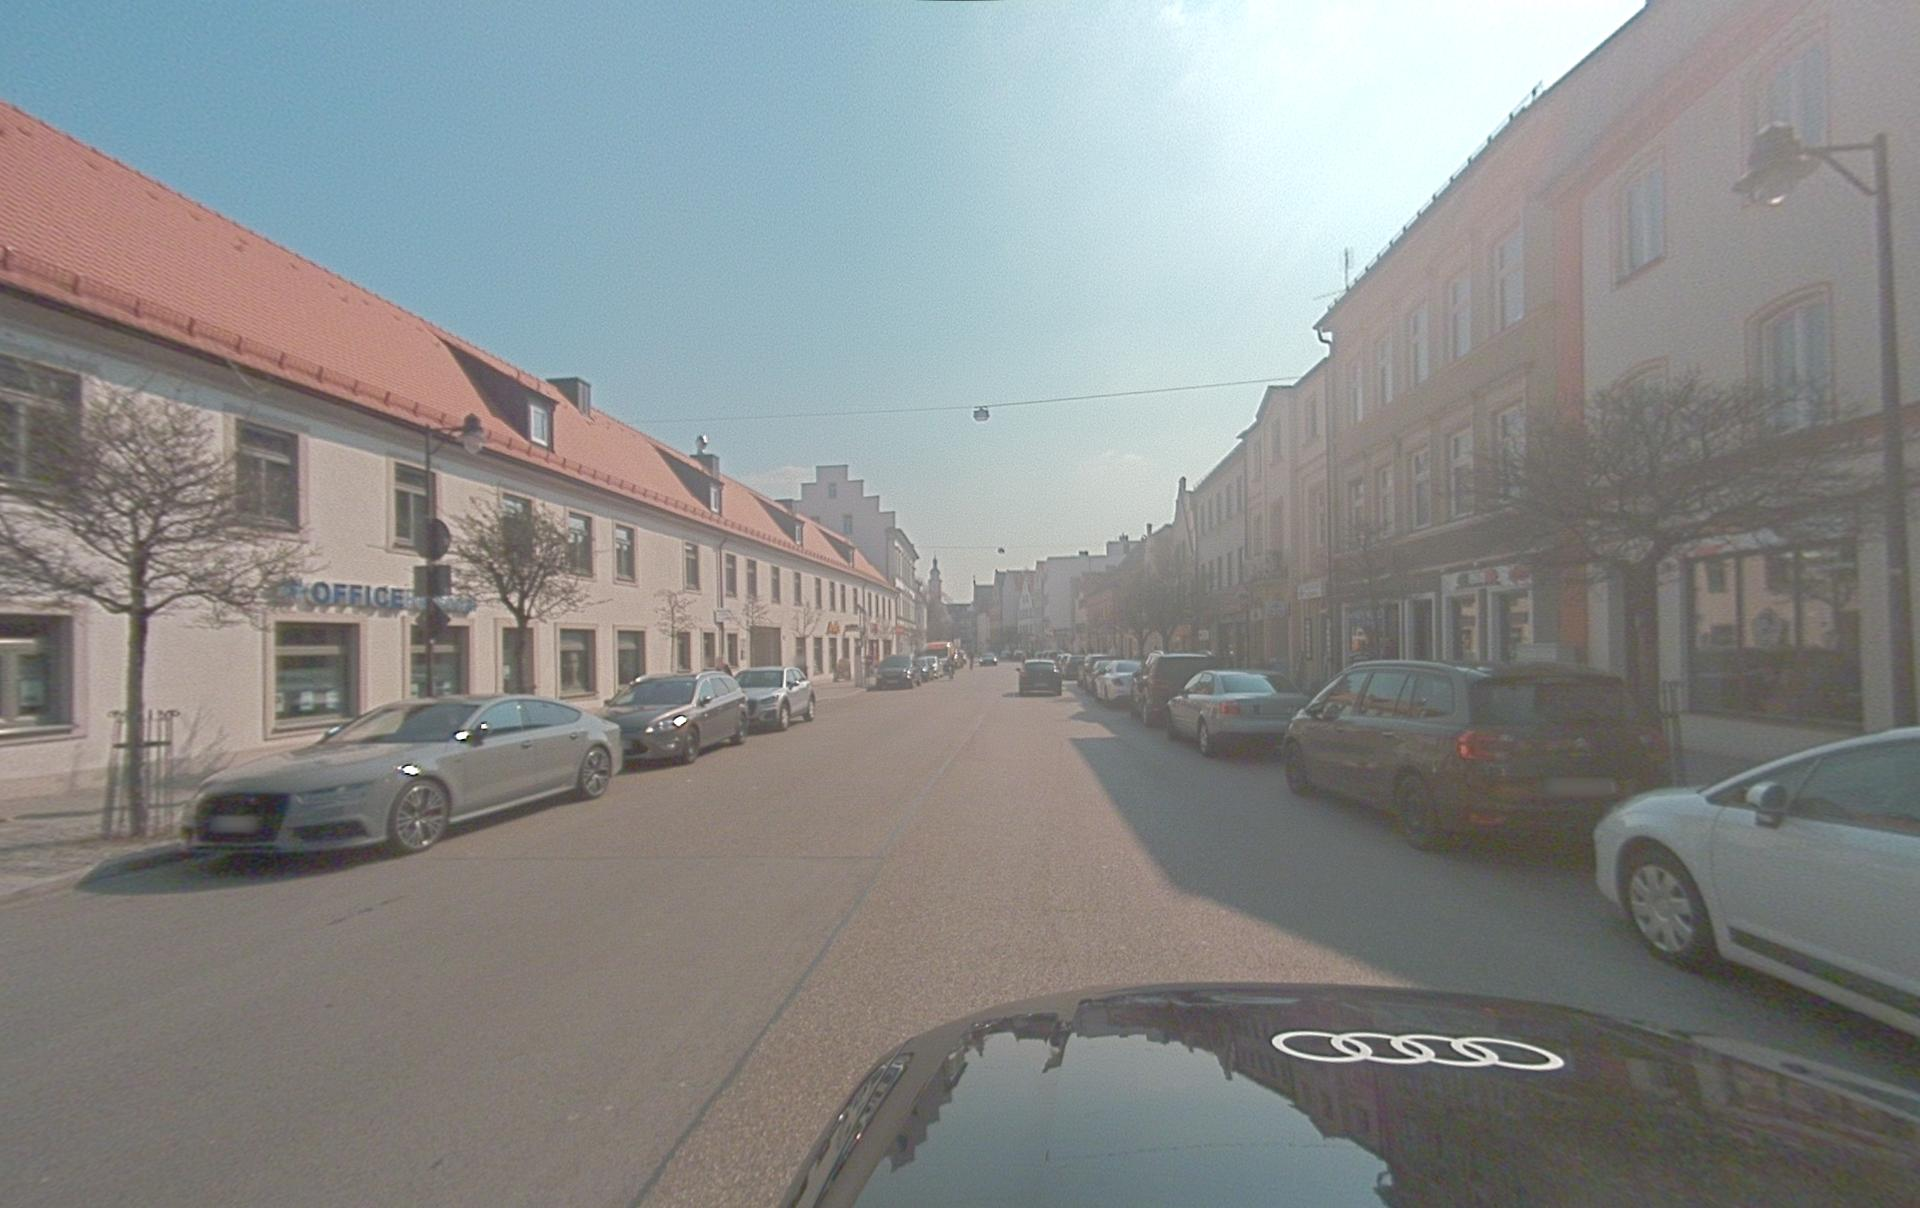car: (1592, 725, 1920, 1036), (1282, 658, 1671, 850), (180, 693, 624, 861), (598, 670, 750, 766), (1166, 669, 1312, 757), (1131, 651, 1216, 728), (734, 665, 817, 731), (1091, 660, 1142, 706), (1018, 659, 1062, 696), (875, 654, 919, 689), (914, 654, 942, 682), (976, 654, 998, 666)
